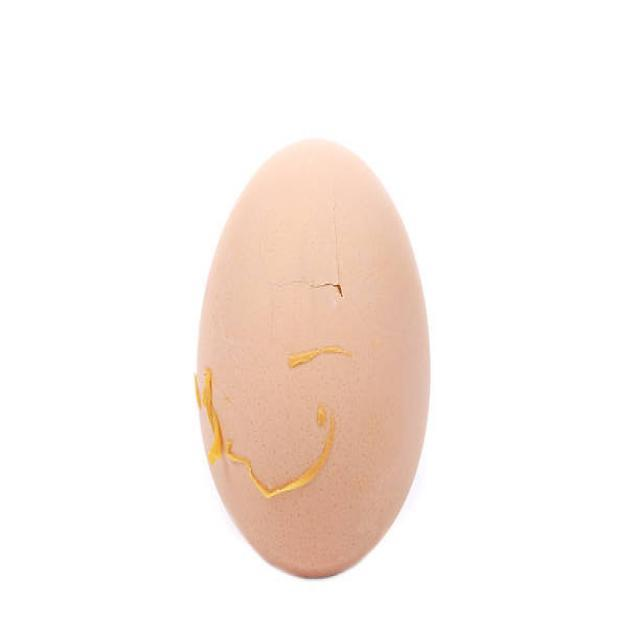biodegradable: (186, 102, 442, 588)
